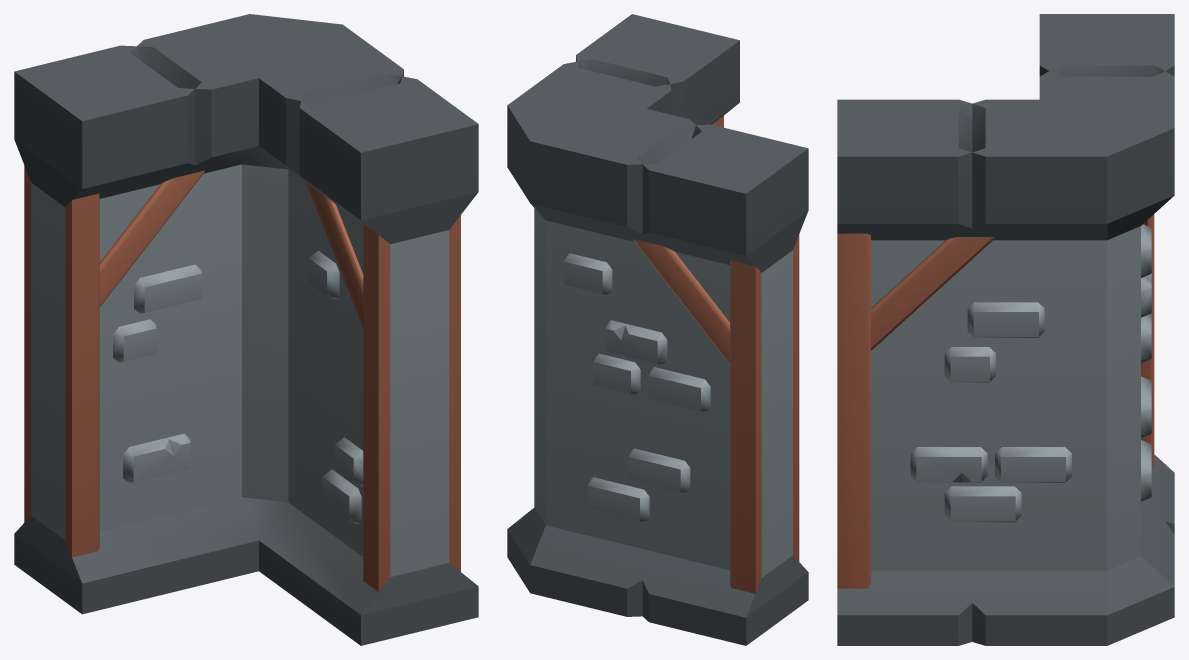
File: wall_corner_scaffold.gltf
The picture shows the model from 3 angles, left to right: view 1: azimuth 30°, elevation 25°; view 2: azimuth 150°, elevation 25°; view 3: azimuth 270°, elevation 25°; orthographic projection. The views are drawn at different scales.
Parts seen in each view (by area): view 1: wall_corner_scaffold; view 2: wall_corner_scaffold; view 3: wall_corner_scaffold.
Part boxes in pixels (x1=…): wall_corner_scaffold: x1=14, y1=14, x2=478, y2=645; wall_corner_scaffold: x1=507, y1=14, x2=808, y2=645; wall_corner_scaffold: x1=837, y1=14, x2=1174, y2=645.
Bounding box in the file's own units: 2.5 × 4 × 2.5.
1 material, 1 textured.
